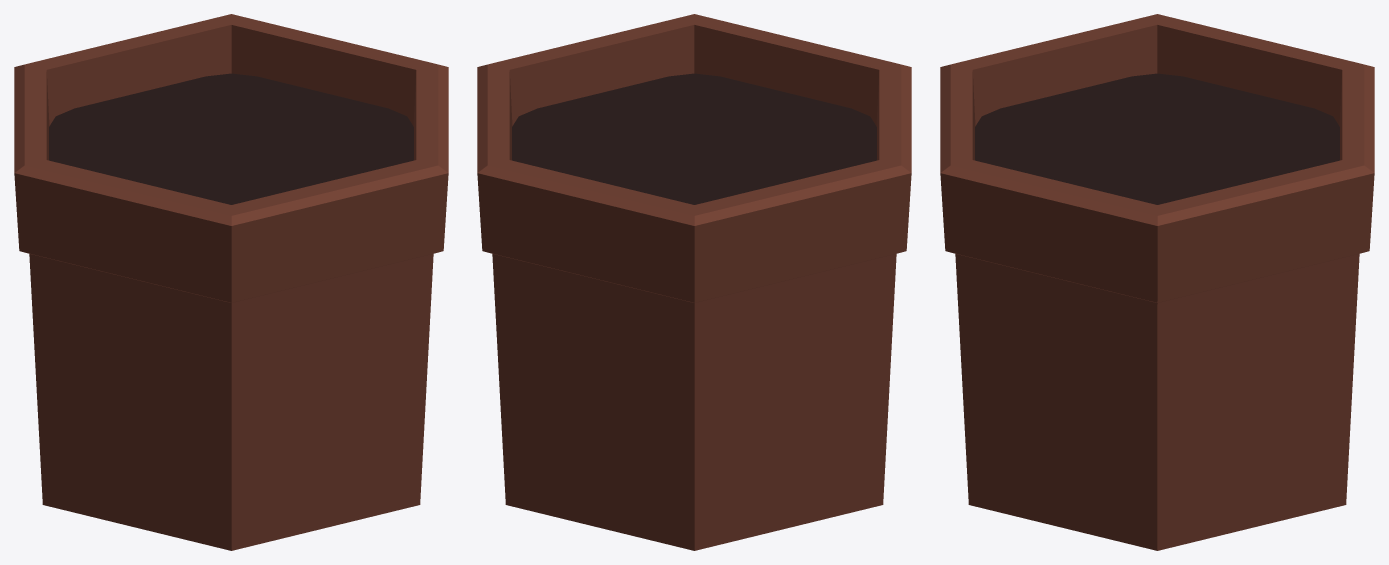
Rendered from MBJ_PlantPack01_Pot01_LOD1_v001.fbx.
3 renders of one model, left to right at view 1: azimuth 30°, elevation 25°; view 2: azimuth 150°, elevation 25°; view 3: azimuth 270°, elevation 25°, orthographic.
Visible parts, largest first — view 1: PlantPot01_A.001; view 2: PlantPot01_A.001; view 3: PlantPot01_A.001.
Boxes of the visible parts, x1,y1,x2,y2 form: PlantPot01_A.001: (14, 14, 448, 550); PlantPot01_A.001: (477, 14, 911, 550); PlantPot01_A.001: (940, 14, 1374, 550).
Size of the model in its own units: 61.21 by 46.32 by 53.01.
